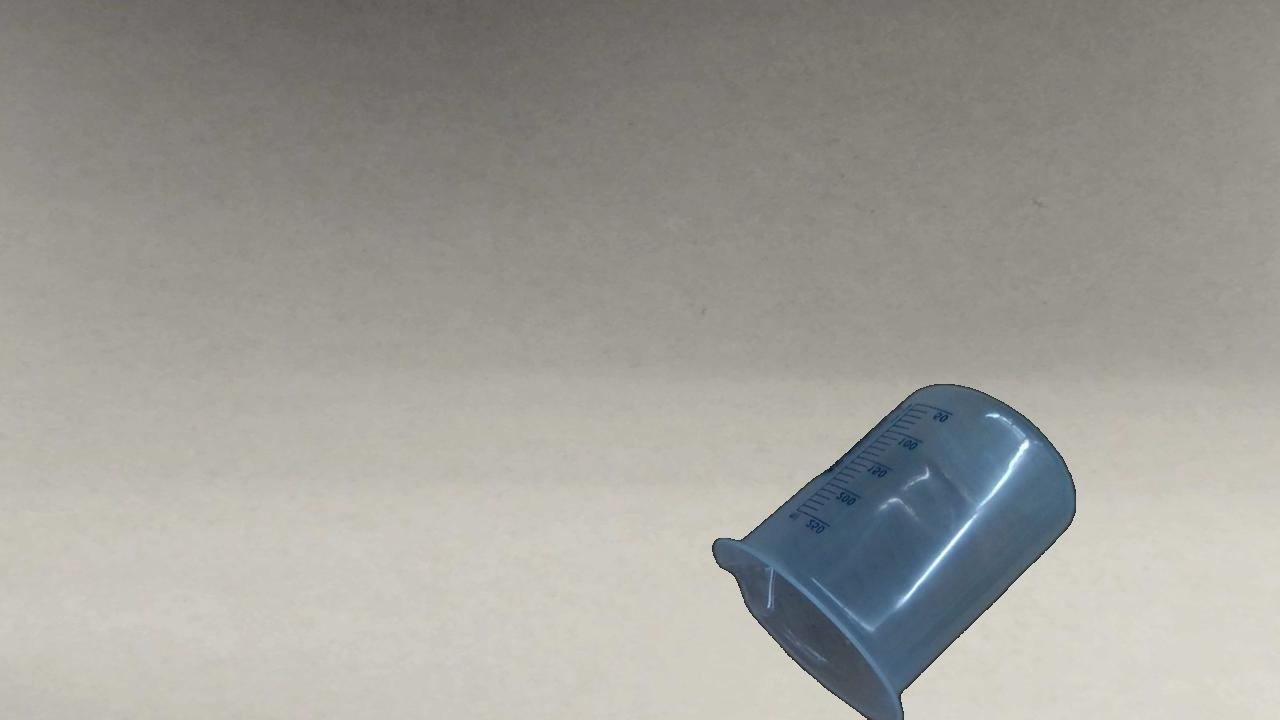becker: (711, 382, 1080, 713)
